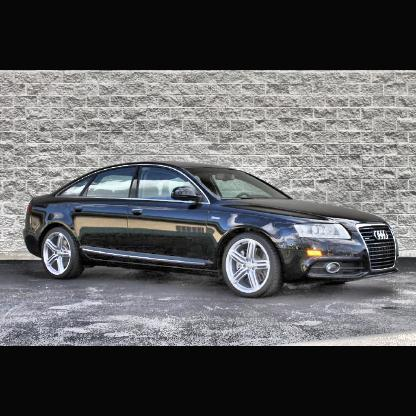Audi S6 Sedan 2011: (27, 163, 402, 300)
